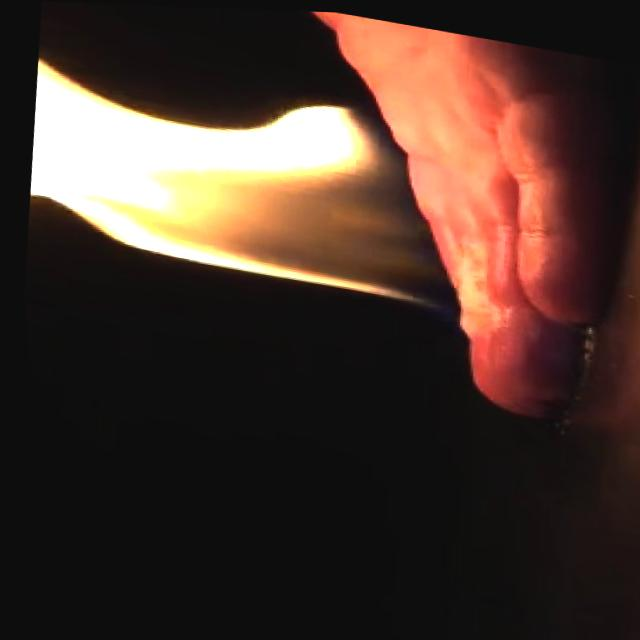Smoke: (10, 46, 497, 327)
